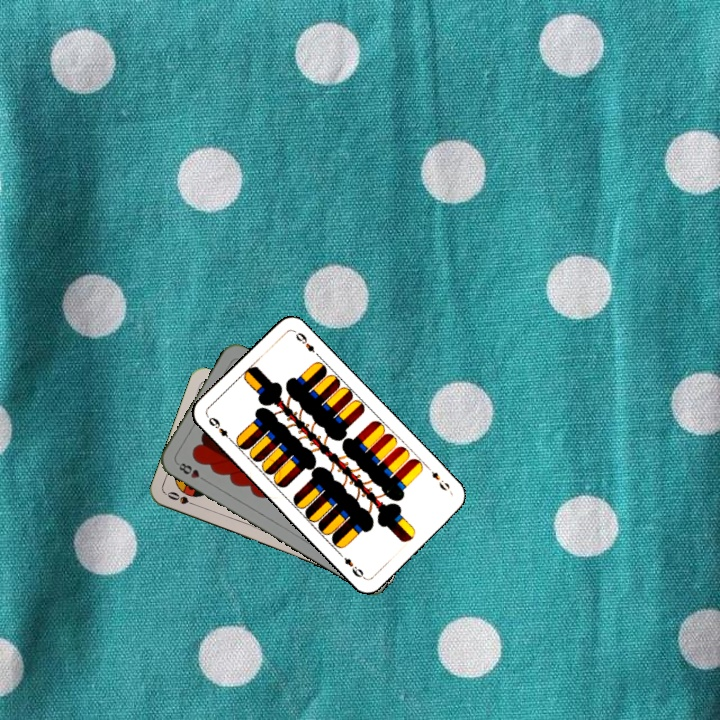E9: (204, 413, 235, 445), (427, 467, 452, 493)
H8: (173, 459, 210, 484)
SO: (163, 487, 202, 509)
